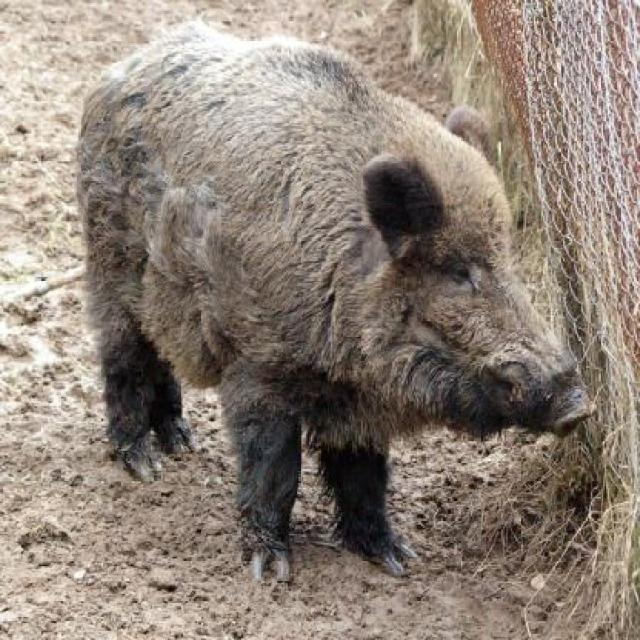pig: (70, 19, 598, 586)
